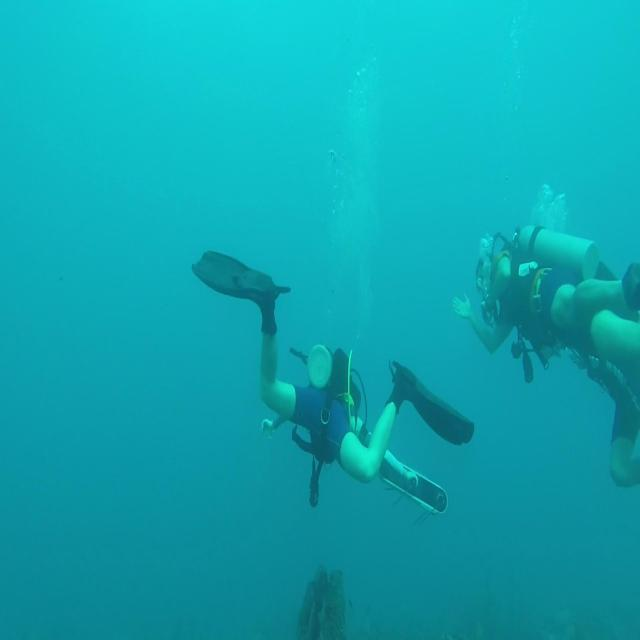human: (191, 248, 475, 518), (452, 225, 639, 488)
